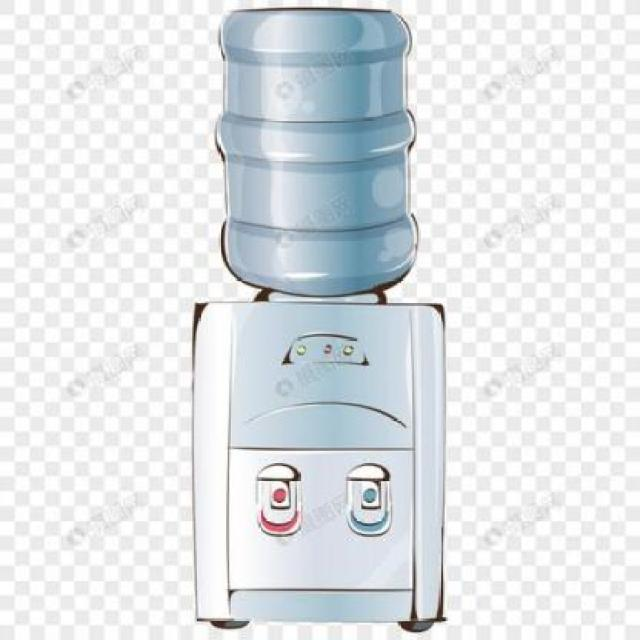cooler: (194, 5, 454, 639)
